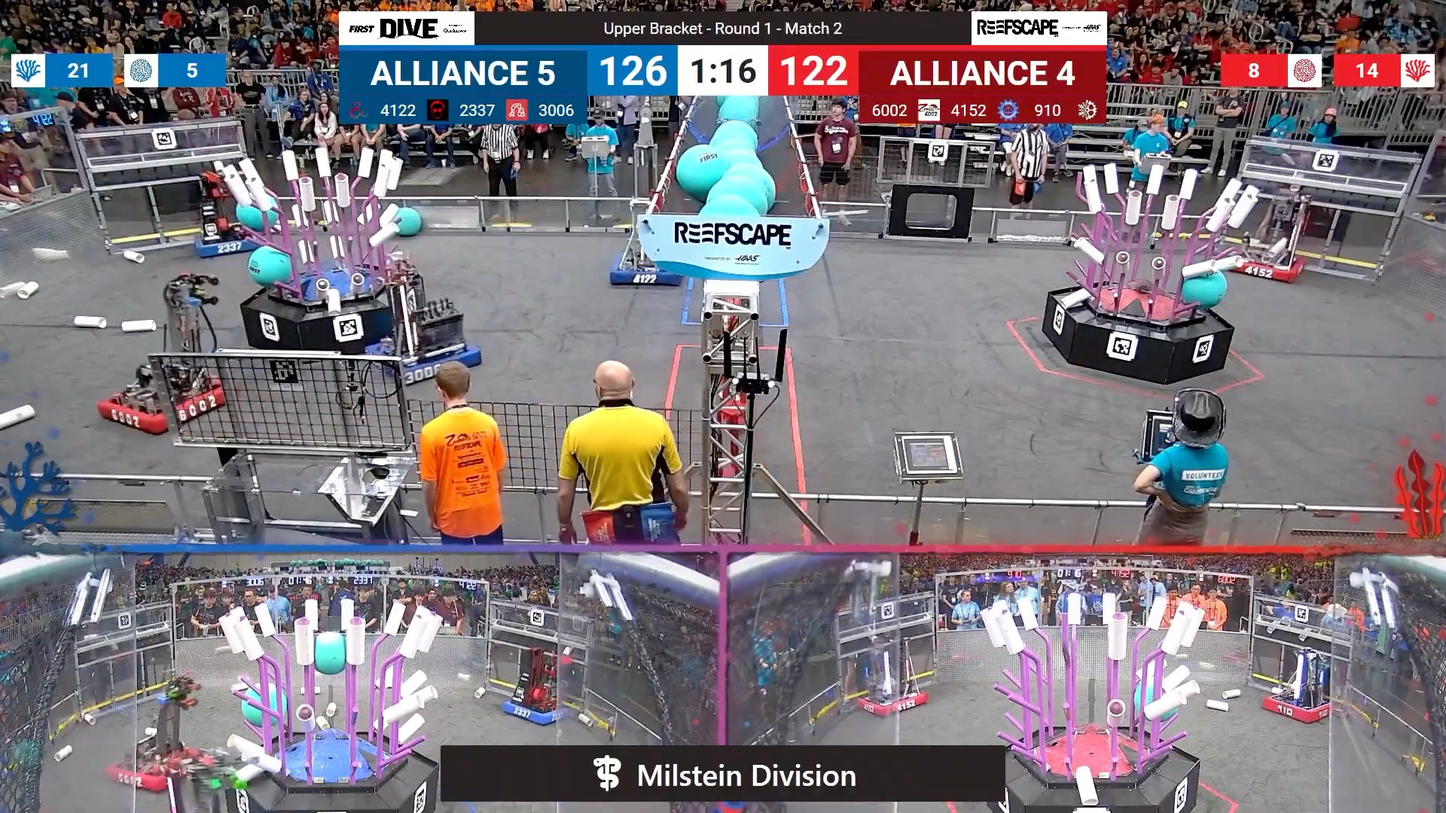bumpers: (90, 373, 234, 437), (361, 337, 488, 384), (104, 744, 215, 790), (1220, 248, 1313, 285), (1255, 691, 1342, 726), (188, 226, 275, 261), (601, 253, 683, 288), (495, 695, 573, 729), (850, 687, 932, 718)
